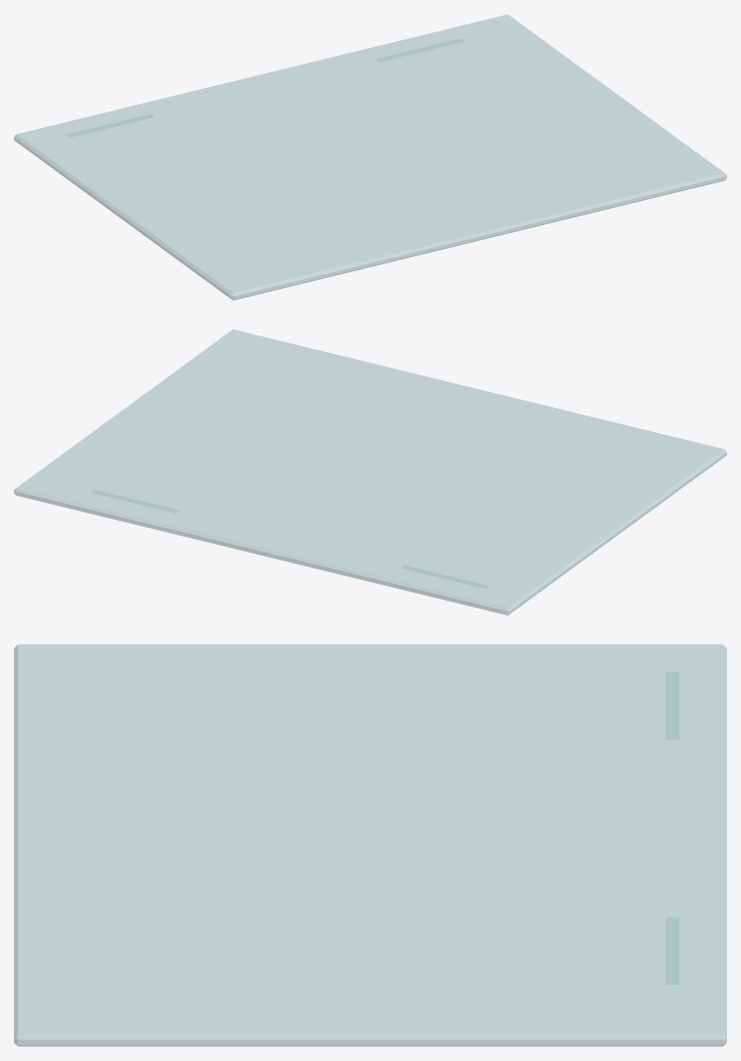
Rendered from tempered_glass_sheet.glb.
The picture shows the model from 3 angles, top to bottom: view 1: azimuth 30°, elevation 25°; view 2: azimuth 150°, elevation 25°; view 3: azimuth 270°, elevation 25°; orthographic projection. The views are drawn at different scales.
Parts seen in each view (by area): view 1: block_stock material; view 2: block_stock material; view 3: block_stock material, block_edge glint (×2).
Part boxes in pixels (x1,y1,x2,y2): block_stock material: (14, 14, 726, 300); block_stock material: (14, 329, 726, 615); block_stock material: (14, 644, 726, 1046); block_edge glint (×2): (665, 671, 679, 984).
Bounding box in the file's own units: 1.22 × 0.0191 × 0.9344.
1 material, 1 textured.
